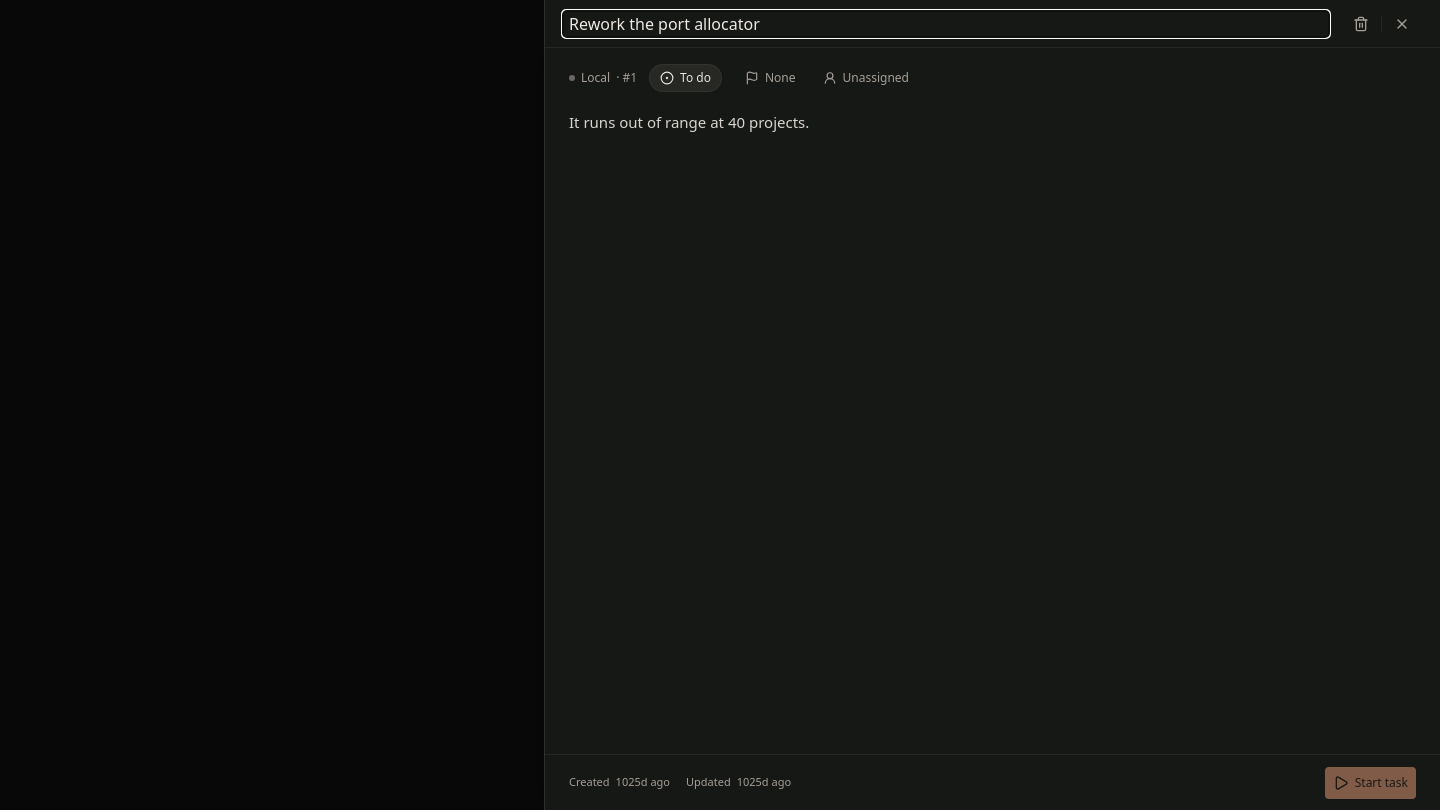
Test: WorkItemDrawer › renames a local item from its heading
Click the button "Rework the port allocator".
click(664, 24)  # box [563, 10, 1329, 36]
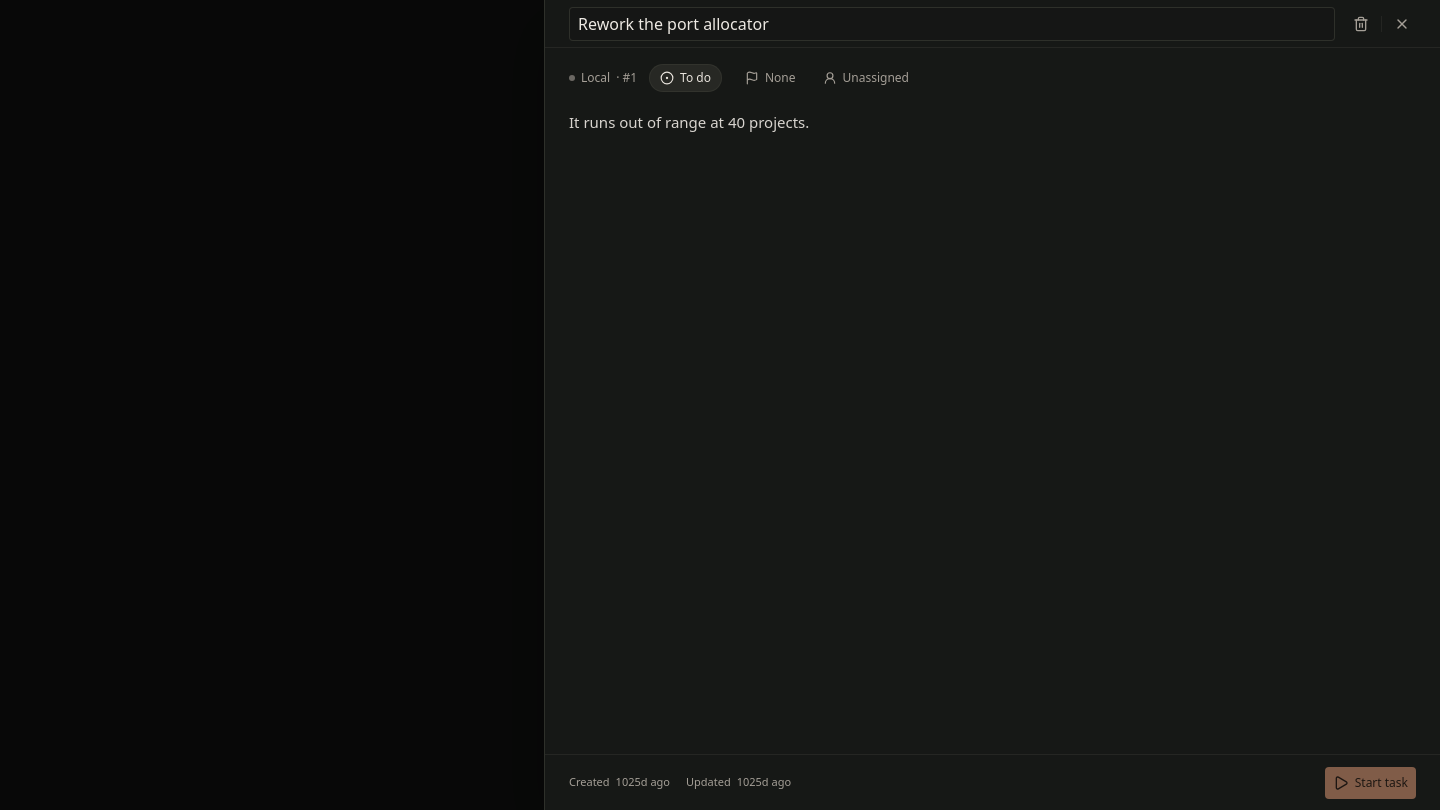
Replace the text in the field named "Title" with "Rework the port allocator range" at (952, 24), box [569, 6, 1335, 40]
Then press Enter
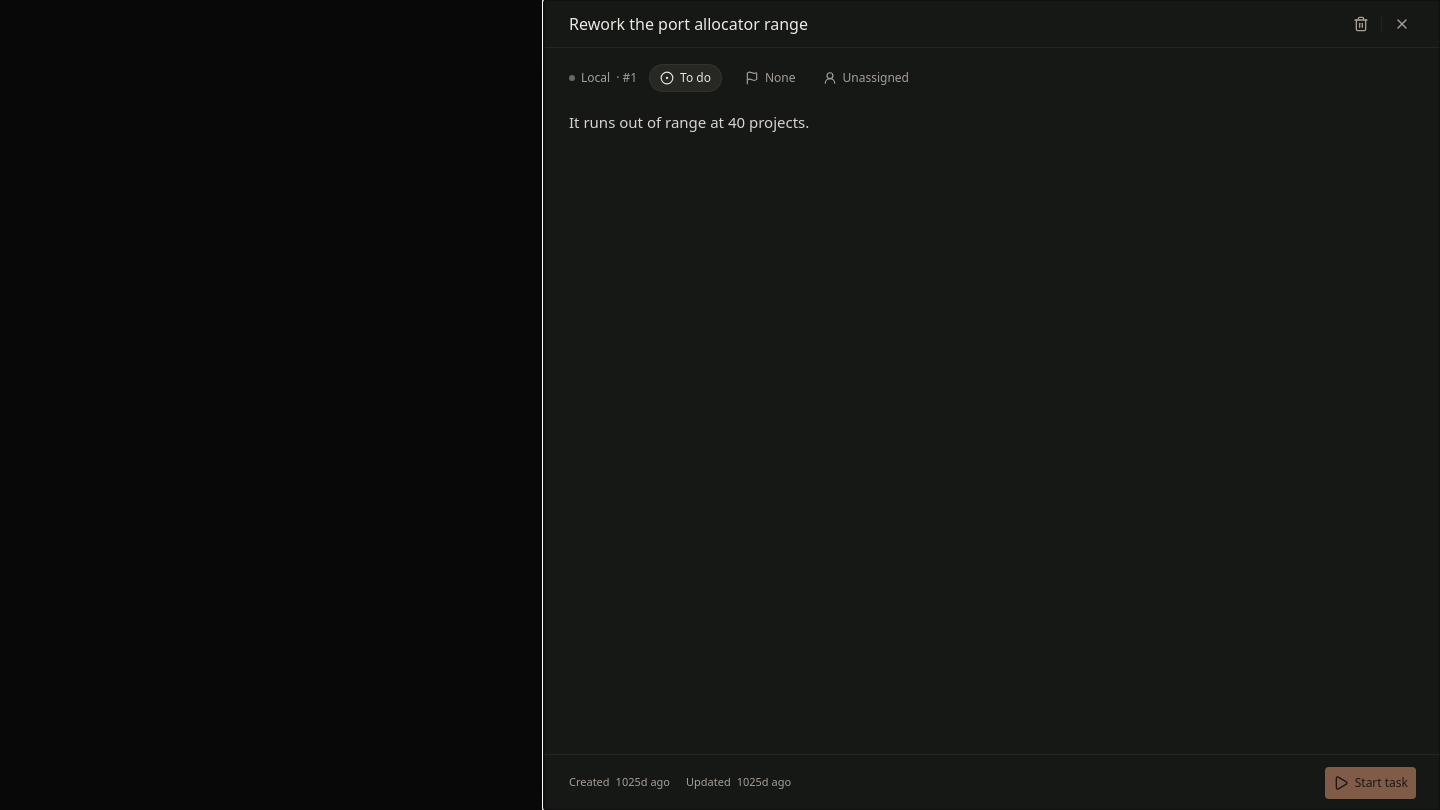
Expected: the button "Rework the port allocator range" is shown, [563, 10, 1329, 36]
